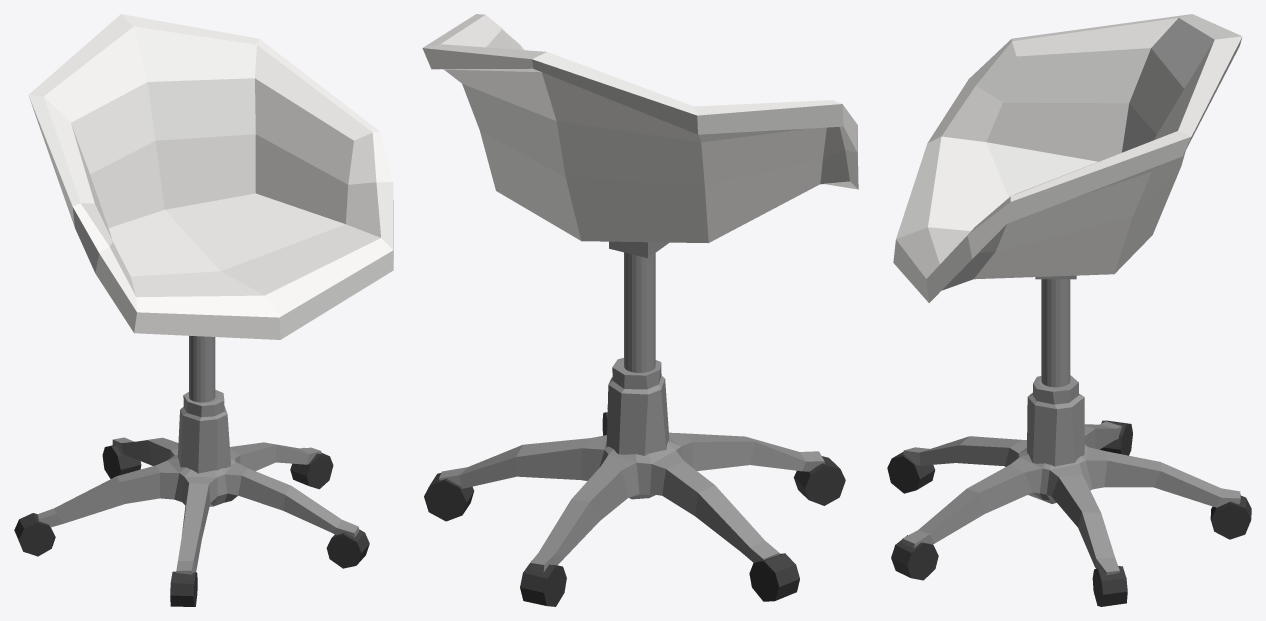
File: Chair_16.fbx
3 views of the same model, side by side, from view 1: azimuth 30°, elevation 25°; view 2: azimuth 150°, elevation 25°; view 3: azimuth 270°, elevation 25° (orthographic). The views are drawn at different scales.
Visible parts, largest first — view 1: Chair_16; view 2: Chair_16; view 3: Chair_16.
Part boxes in pixels (x1=…): Chair_16: x1=14, y1=14, x2=393, y2=606; Chair_16: x1=422, y1=14, x2=858, y2=606; Chair_16: x1=887, y1=14, x2=1251, y2=606.
Bounding box in the file's own units: 92.06 × 84.28 × 128.
